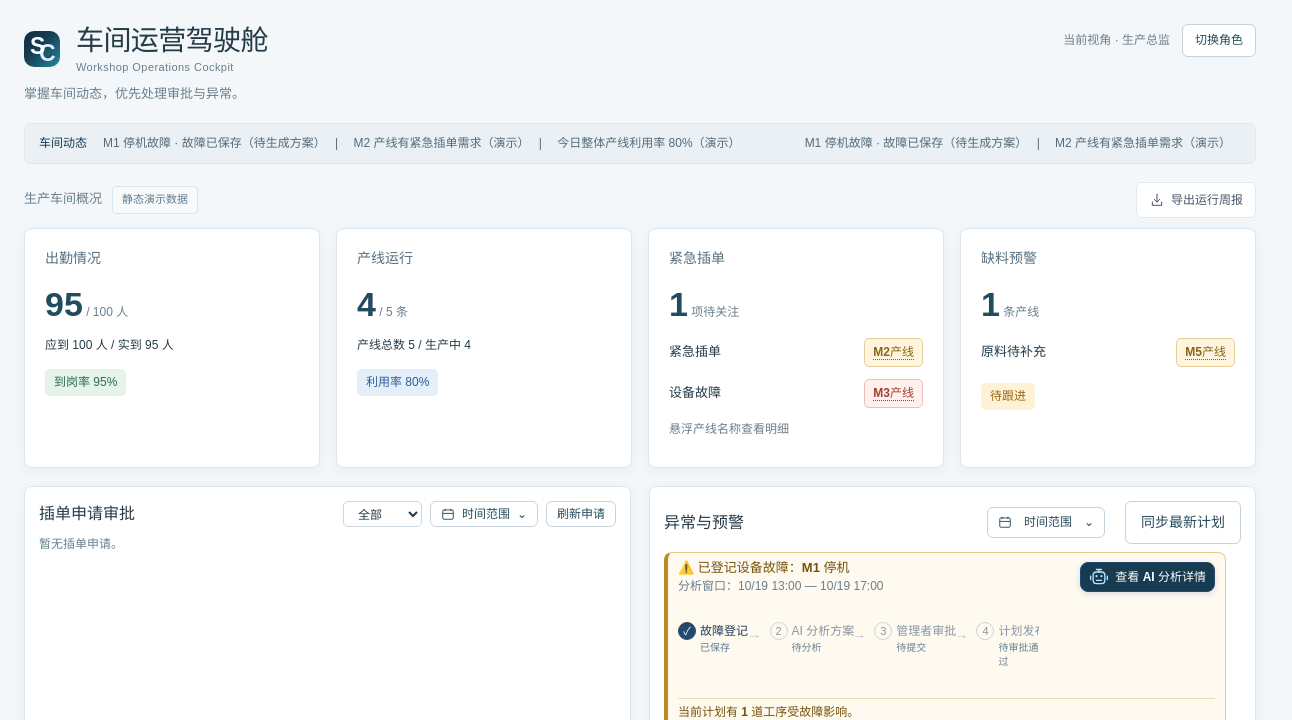
shows alert line details on hover and keyboard focus
Expected: the text "暂无插单申请。" is shown, [39,537,123,551]
Hover over the button "M2产线" at [894, 352], box [864,338,923,367]
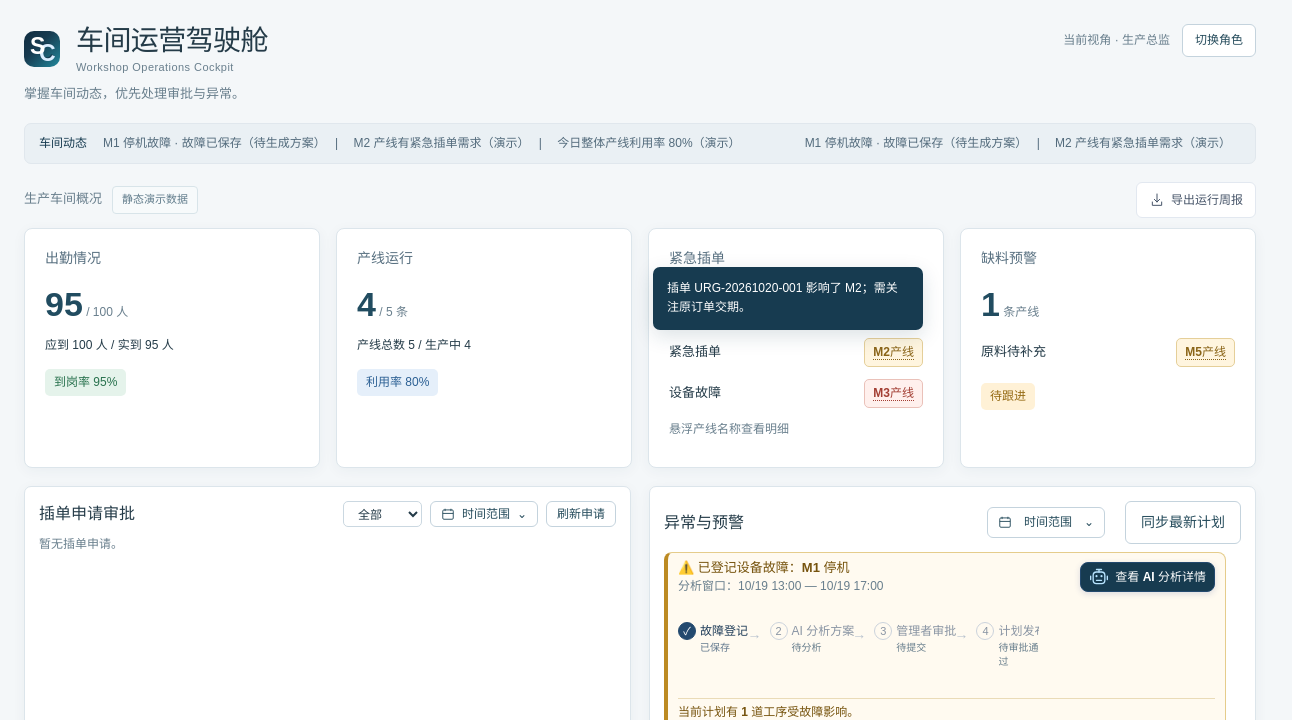
Now the tooltip shows "插单 URG-20261020-001 影响了 M2", box [667,281,898,314]
Move the pointer off the button "M2产线", box [864,338,923,367]
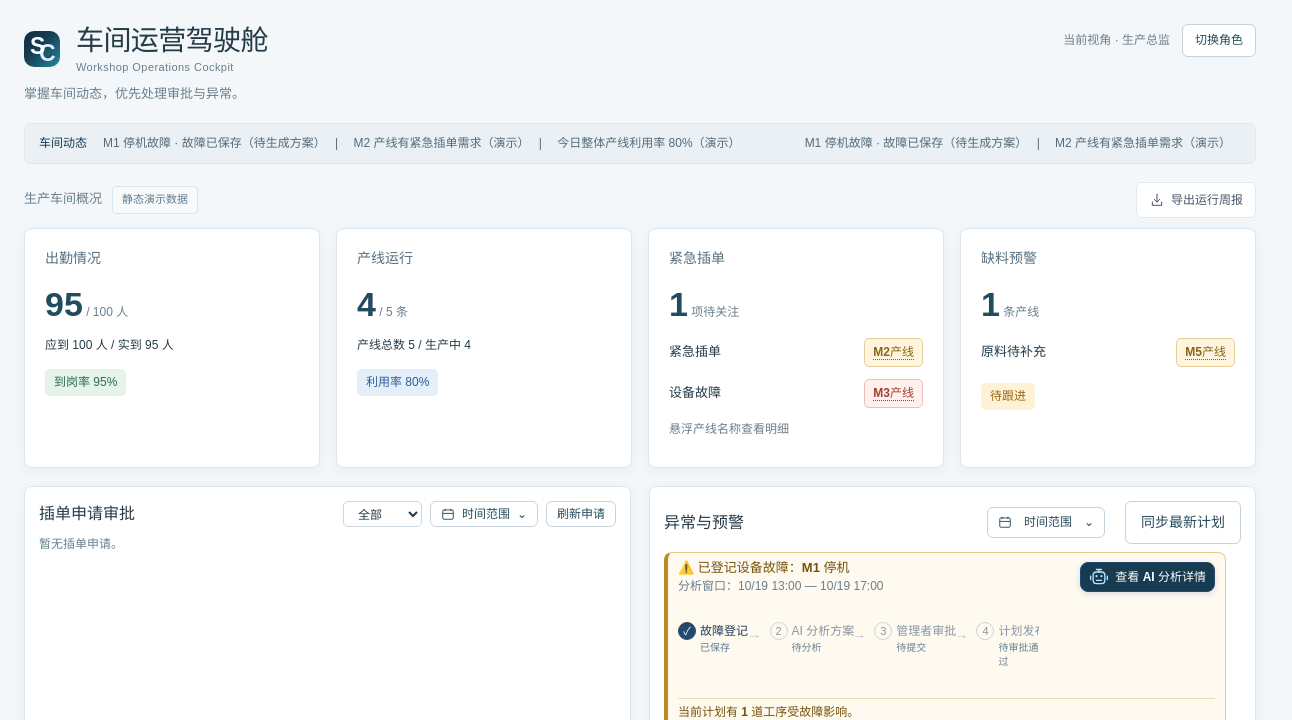
Now the tooltip "插单 URG-20261020-001 影响了 M2；需关注原订单交期。" is gone
Focus the button "M3产线" at [894, 393], box [864,379,923,408]
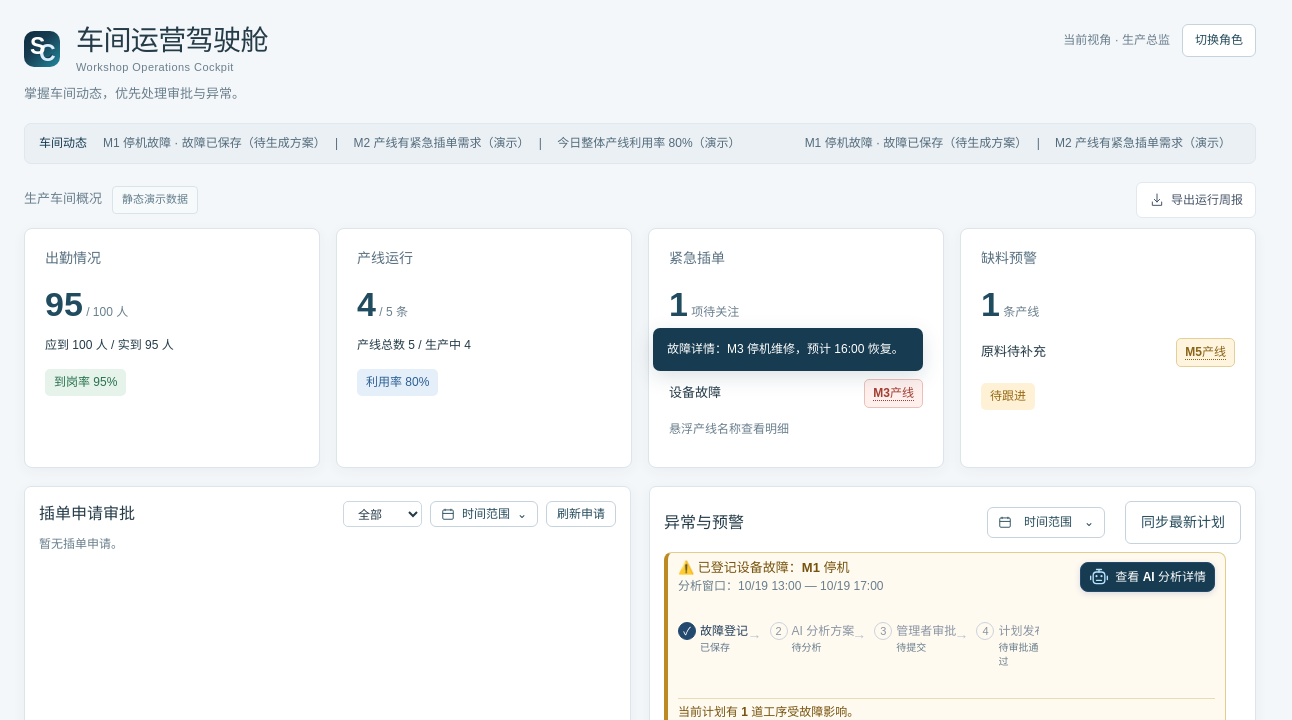
Now the tooltip shows "M3 停机维修", box [667,342,904,356]
Press Escape in the button "M3产线", box [864,379,923,408]
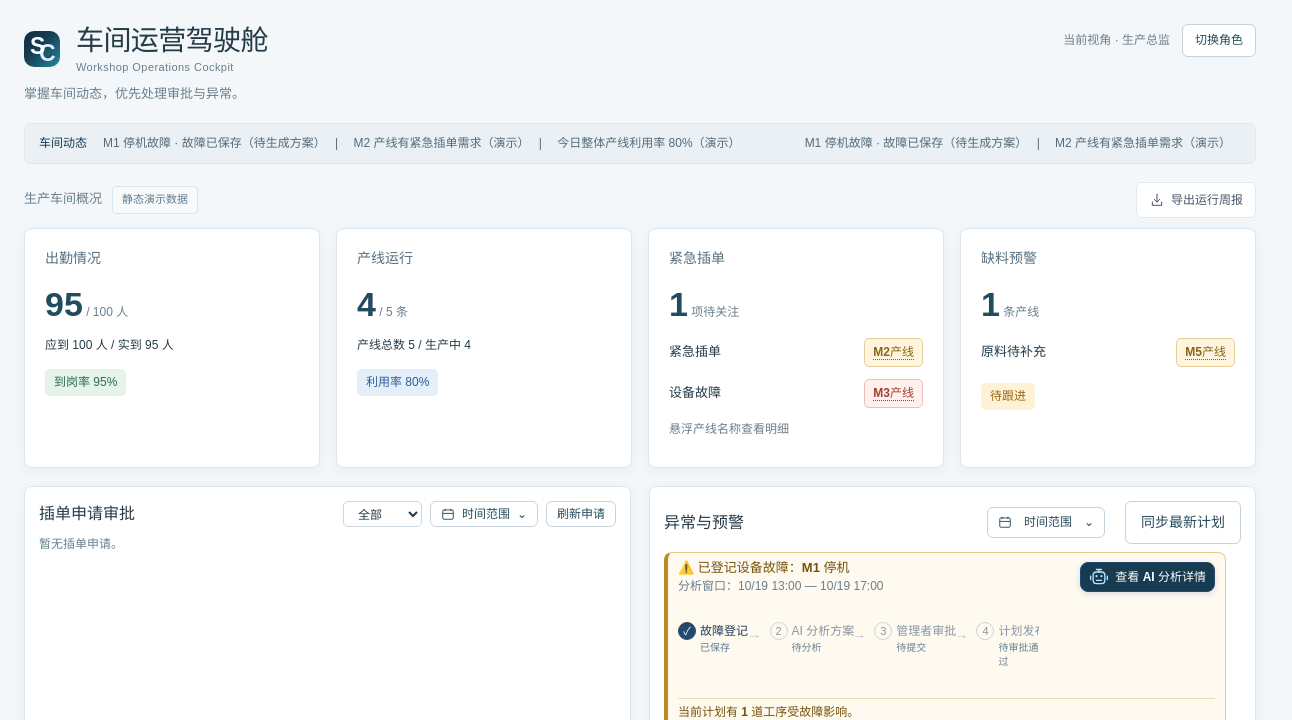
Now the tooltip "故障详情：M3 停机维修，预计 16:00 恢复。" is gone
Hover over the button "M5产线" at [1206, 352], box [1176,338,1235,367]
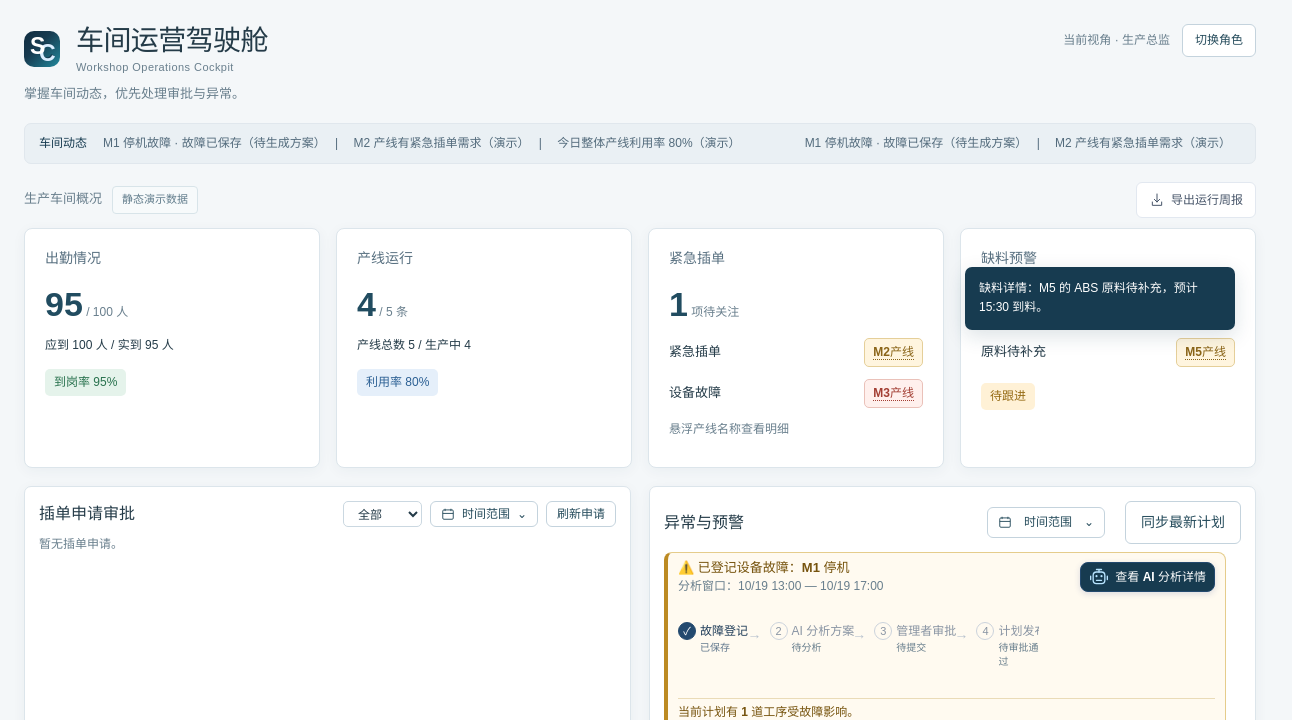
Now the tooltip shows "ABS 原料待补充", box [979,281,1198,314]
